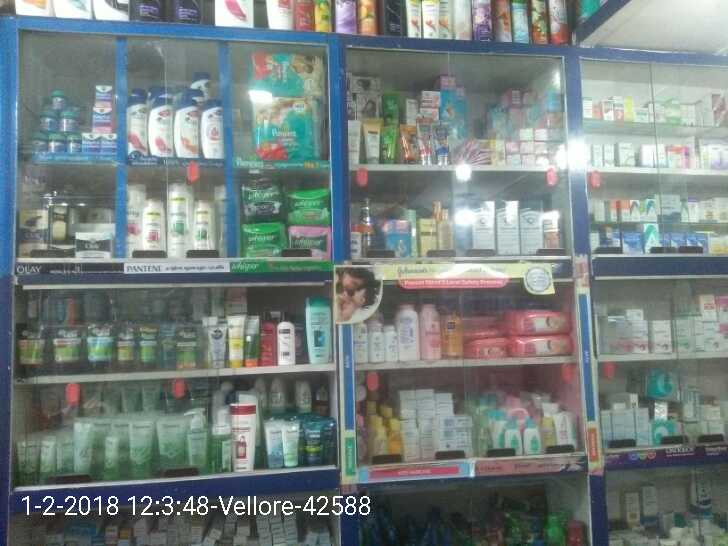vicks: (30, 79, 119, 157)
